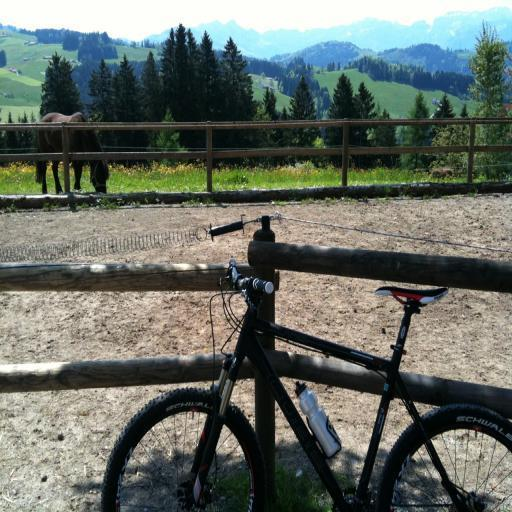horse: (34, 110, 114, 199)
